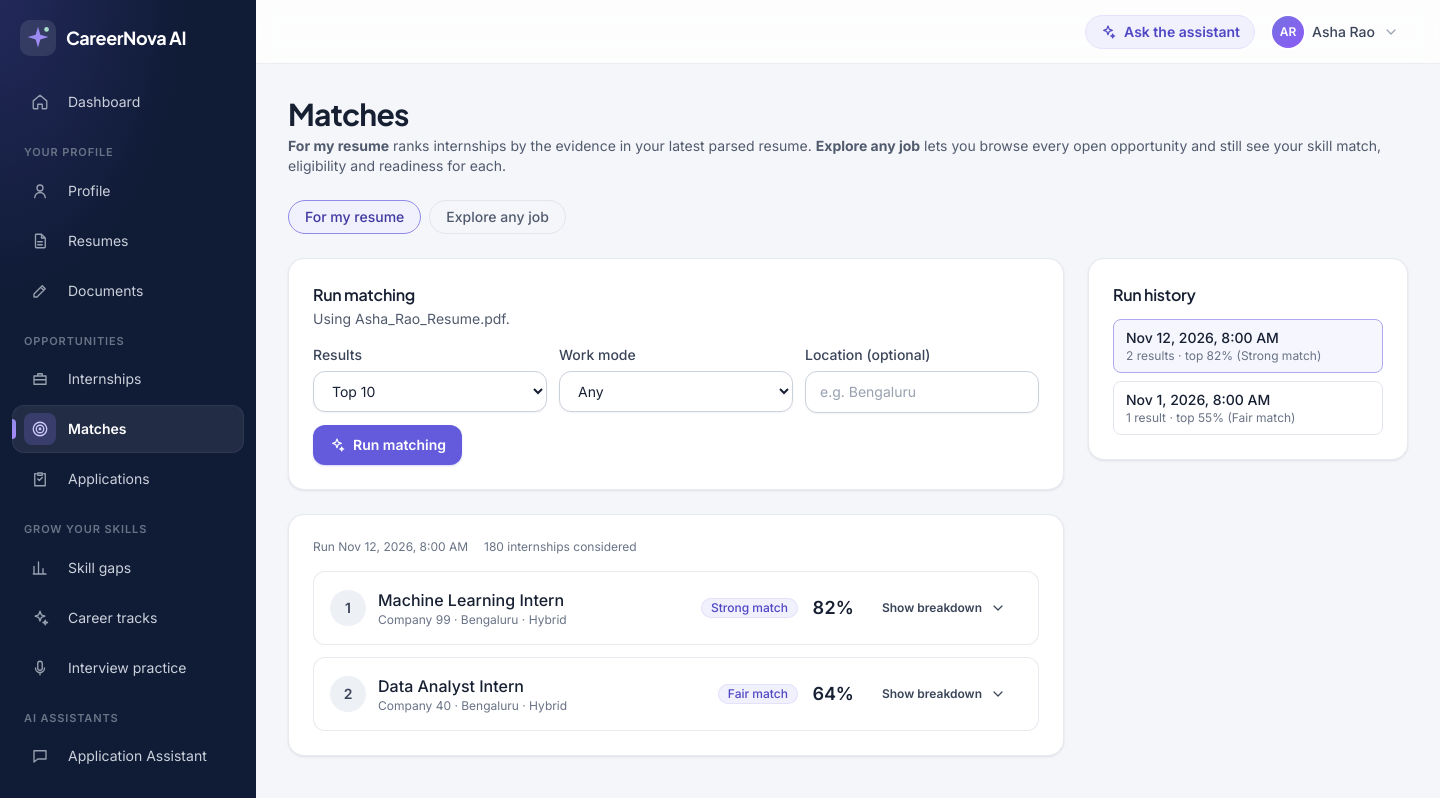
Test: Matches page › explains when the resume lacks data for matching
Click the button "Run matching" at (388, 445), box [313,425,462,465]
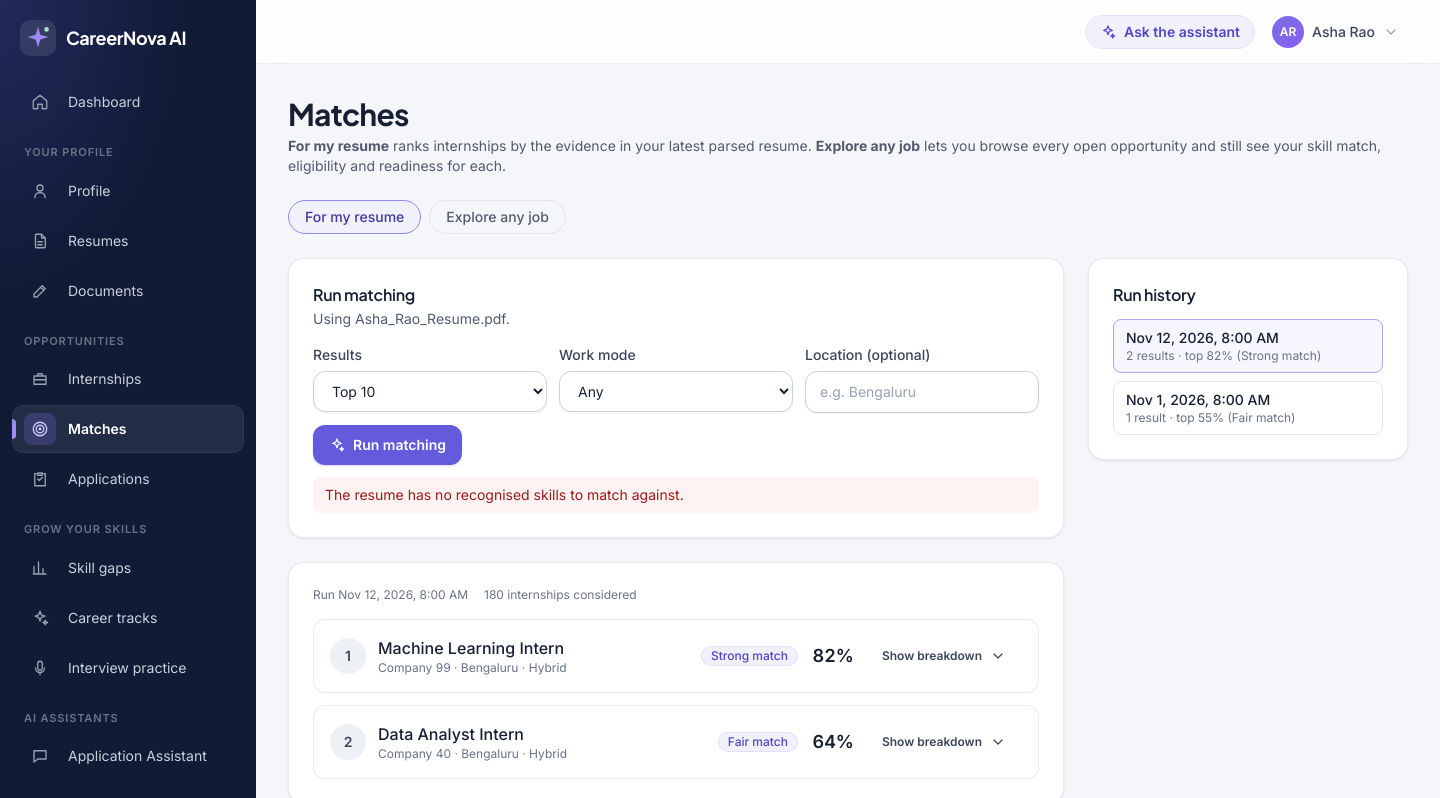
Check: the message reads "The resume has no recognised skills to match against.", box [325,486,684,503]
